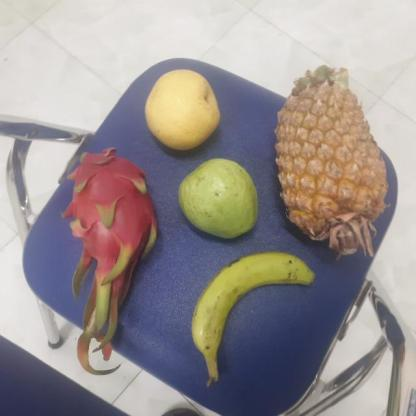banana: (185, 256, 314, 360)
guava: (175, 160, 259, 236)
pear: (142, 68, 223, 152)
pineapple: (277, 74, 388, 252)
pitaya: (63, 150, 157, 284)
